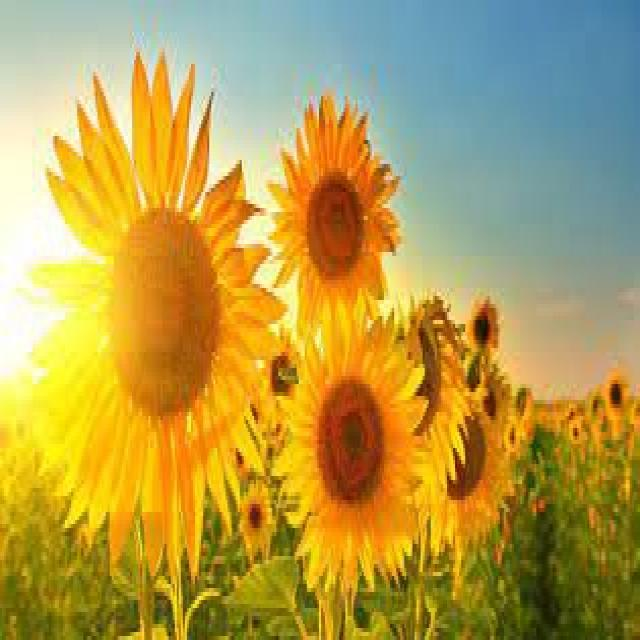sunflower: (27, 44, 286, 580), (274, 293, 429, 592), (268, 93, 403, 336), (404, 294, 475, 492), (428, 397, 502, 557), (261, 323, 296, 394), (238, 479, 272, 552), (465, 293, 498, 356), (478, 364, 509, 422), (603, 368, 628, 420), (232, 446, 250, 477)
